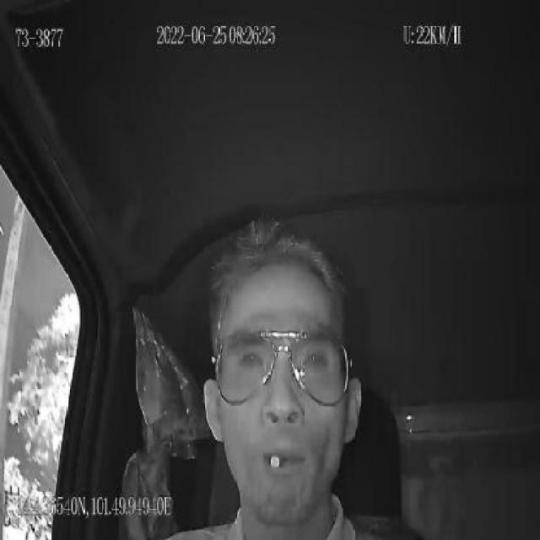smoking: (266, 448, 288, 473)
